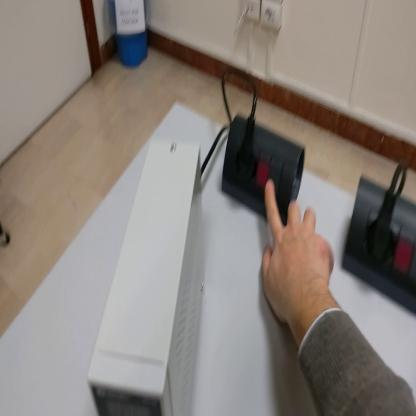hand: (259, 177, 335, 331)
power supply: (89, 137, 205, 414)
socket: (341, 172, 416, 317), (220, 118, 302, 230)
